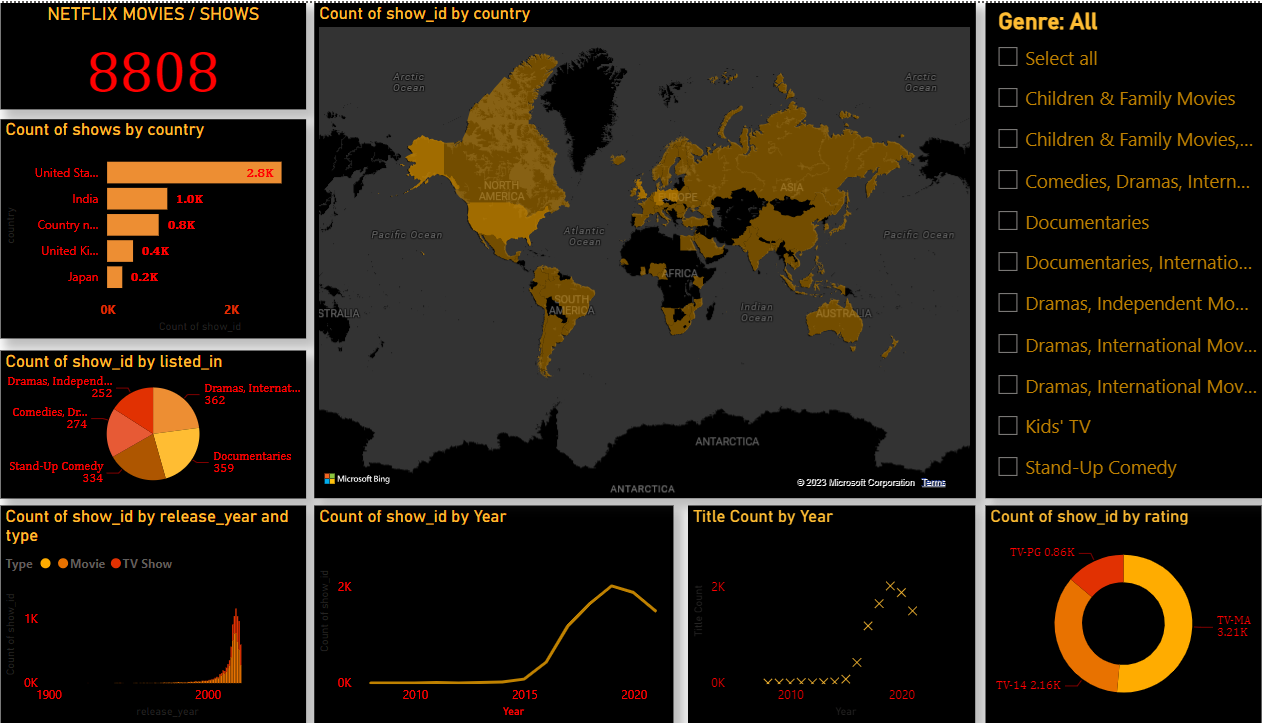

Layout of this report page (visuals, bound fields, positions):
{"tool":"powerbi","page":{"name":"Dashboard","canvas":[1280,720],"ordinal":0},"visuals":[{"type":"card","title":"NETFLIX MOVIES / SHOWS","fields":{"Values":["Count(netflix_titles.show_id)"]},"box":[7.3,0,305.6,106.3],"z":0},{"type":"barChart","title":"Count of shows by country","fields":{"Category":["netflix_titles.country"],"Y":["CountNonNull(netflix_titles.show_id)"]},"box":[7.3,116.1,305.6,218.8],"z":1000},{"type":"pieChart","fields":{"Category":["netflix_titles.listed_in"],"Y":["CountNonNull(netflix_titles.show_id)"]},"box":[7.3,347.2,305.6,147.9],"z":2000},{"type":"columnChart","fields":{"Category":["netflix_titles.release_year"],"Y":["Count(netflix_titles.show_id)"],"Series":["netflix_titles.type"]},"box":[7.3,502.4,305.6,217.6],"z":3000},{"type":"lineChart","fields":{"Category":["netflix_titles.date_added.Variation.Date Hierarchy.Year","netflix_titles.date_added.Variation.Date Hierarchy.Quarter","netflix_titles.date_added.Variation.Date Hierarchy.Month","netflix_titles.date_added.Variation.Date Hierarchy.Day"],"Y":["Count(netflix_titles.show_id)"]},"box":[321.5,502.4,359.4,217.6],"z":4000},{"type":"filledMap","fields":{"Category":["netflix_titles.country"]},"box":[321.5,0,661.3,495.1],"z":5000},{"type":"scatterChart","fields":{"Y":["netflix_titles.Title Count"],"X":["netflix_titles.date_added.Variation.Date Hierarchy.Year","netflix_titles.date_added.Variation.Date Hierarchy.Quarter","netflix_titles.date_added.Variation.Date Hierarchy.Month","netflix_titles.date_added.Variation.Date Hierarchy.Day"]},"box":[695.6,502.4,287.3,217.6],"z":6000},{"type":"donutChart","fields":{"Y":["Count(netflix_titles.show_id)"],"Category":["netflix_titles.rating"]},"box":[992.6,502.4,276.3,217.6],"z":7000},{"type":"slicer","fields":{"Values":["netflix_titles.listed_in"]},"box":[992.6,0,277,494.9],"z":8000}]}

Visuals, with their boxes in screenshot pixels (x1, y1, x2, y2), scaled from the page's 1280x720 canvas onto the 1262x723 screenshot:
"NETFLIX MOVIES / SHOWS" card: bbox=[7, 0, 308, 107]
"Count of shows by country" barChart: bbox=[7, 117, 308, 336]
pieChart - netflix_titles.listed_in x CountNonNull(netflix_titles.show_id): bbox=[7, 349, 308, 497]
columnChart - netflix_titles.release_year x Count(netflix_titles.show_id): bbox=[7, 504, 308, 722]
lineChart - netflix_titles.date_added.Variation.Date Hierarchy.Year x netflix_titles.date_added.Variation.Date Hierarchy.Quarter: bbox=[317, 504, 671, 722]
filledMap - netflix_titles.country: bbox=[317, 0, 969, 497]
scatterChart - netflix_titles.Title Count x netflix_titles.date_added.Variation.Date Hierarchy.Year: bbox=[686, 504, 969, 722]
donutChart - Count(netflix_titles.show_id) x netflix_titles.rating: bbox=[979, 504, 1251, 722]
slicer - netflix_titles.listed_in: bbox=[979, 0, 1252, 497]
